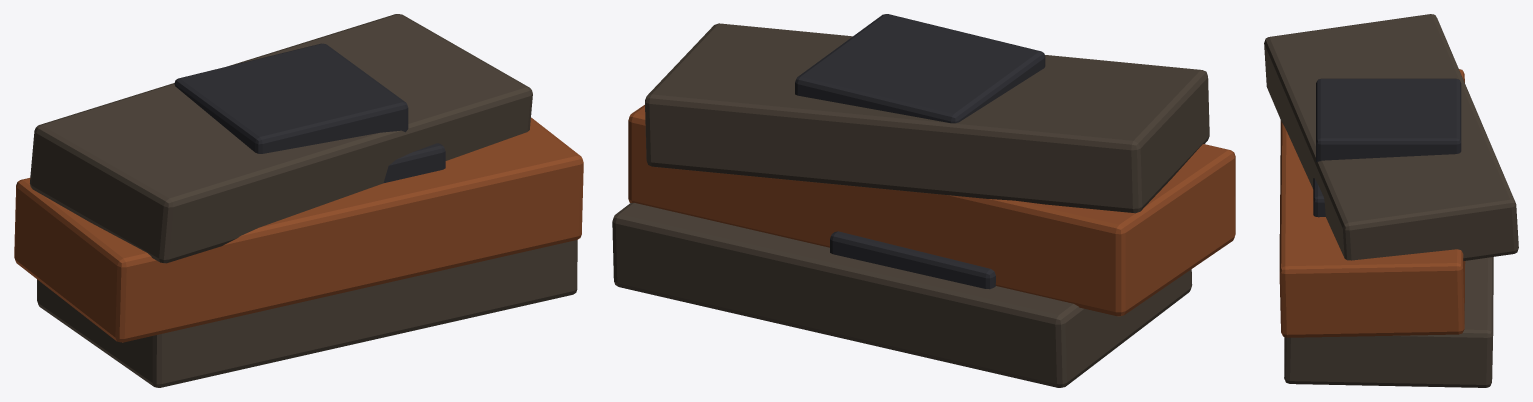
File: car_stack_1.glb
3 renders of one model, left to right at view 1: azimuth 30°, elevation 25°; view 2: azimuth 150°, elevation 25°; view 3: azimuth 270°, elevation 25°, orthographic. The views are drawn at different scales.
Parts seen in each view (by area): view 1: car_stack; view 2: car_stack; view 3: car_stack.
Part boxes in pixels (x1,y1,x2,y2): car_stack: (14, 14, 583, 387); car_stack: (612, 14, 1235, 387); car_stack: (1264, 14, 1518, 387).
Bounding box in the file's own units: 3.92 × 1.78 × 2.18.
